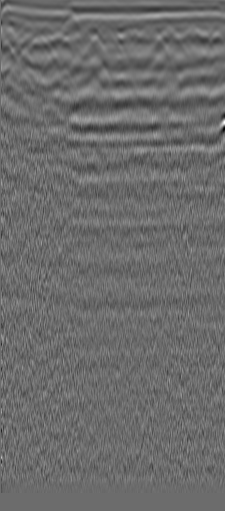가스: (214, 111, 225, 139)
오수: (24, 27, 54, 53)
우수: (155, 24, 185, 55)
